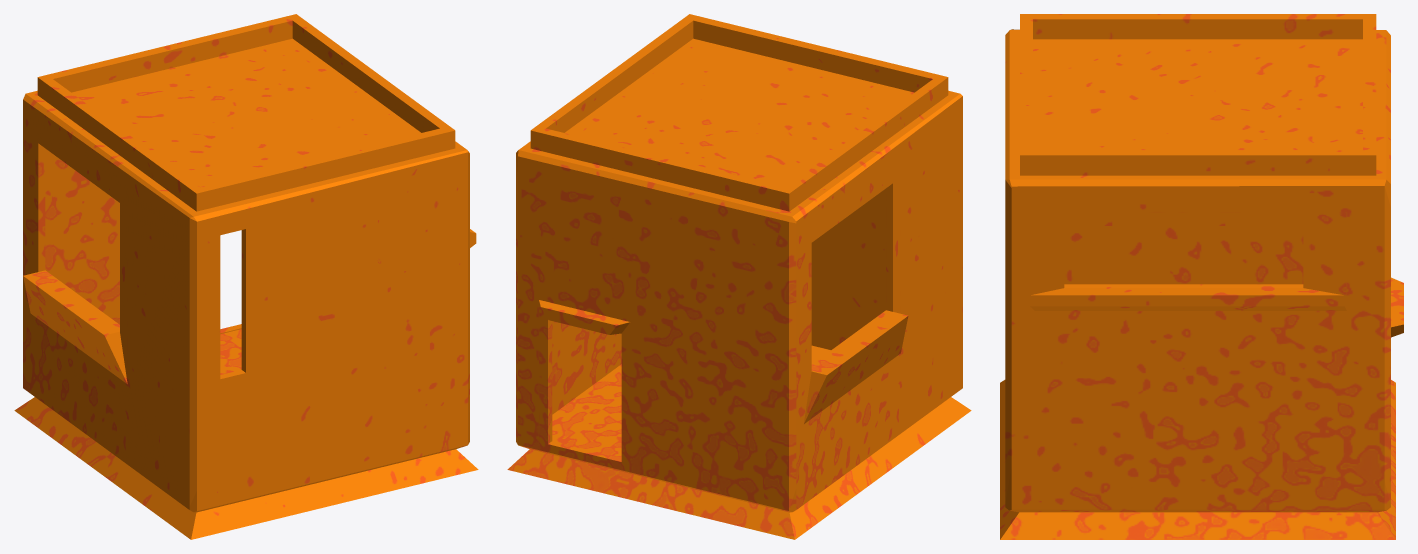
The model's file is ruins.fbx.
The picture shows the model from 3 angles, left to right: view 1: azimuth 30°, elevation 25°; view 2: azimuth 150°, elevation 25°; view 3: azimuth 270°, elevation 25°; orthographic projection. The views are drawn at different scales.
Visible parts, largest first — view 1: Cube.004; view 2: Cube.004; view 3: Cube.004.
Part boxes in pixels (x1=…): Cube.004: x1=14, y1=14, x2=478, y2=539; Cube.004: x1=507, y1=14, x2=971, y2=539; Cube.004: x1=1000, y1=14, x2=1403, y2=539.
Size of the model in its own units: 2608 by 2700 by 2623.
